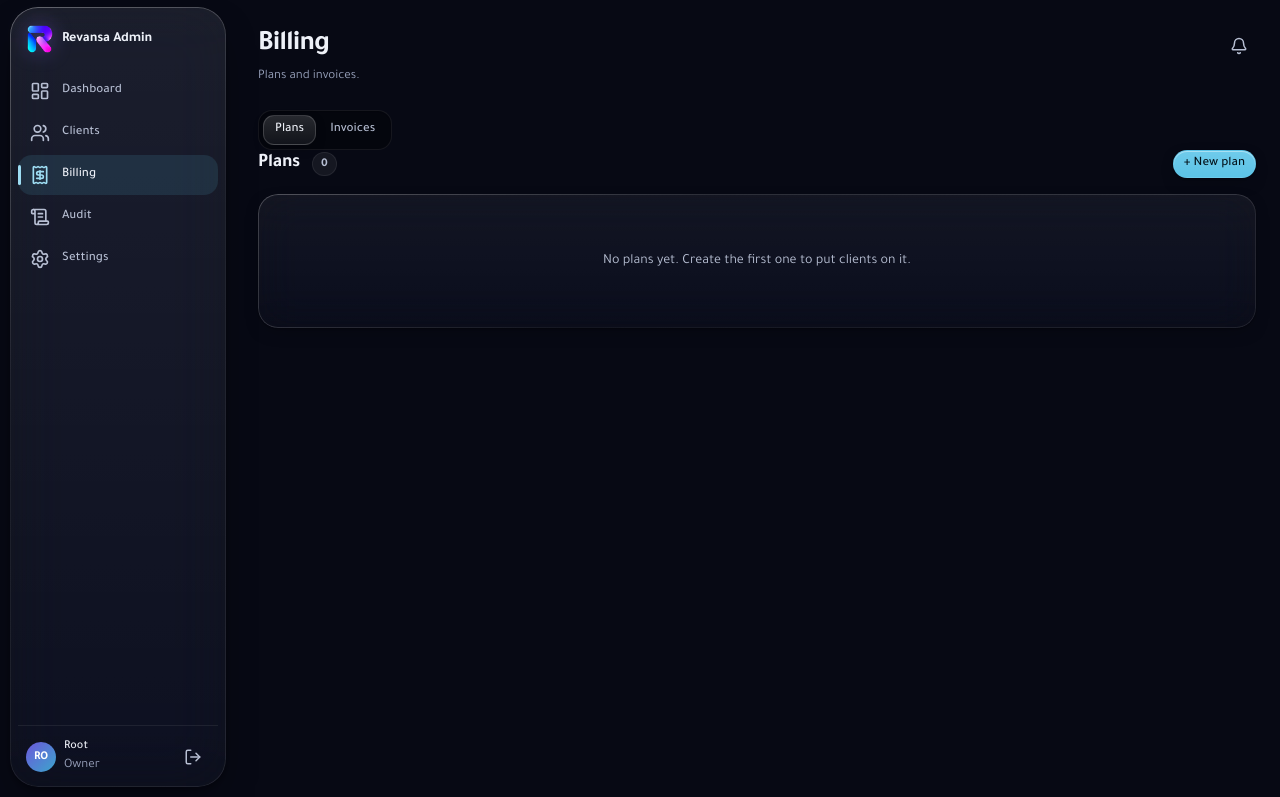
Test: Billing: invoices › lets an owner mark a pending invoice PAID, and then offers nothing more for it
Click the radio button labelled "Invoices".
click(353, 130)  # box [318,115,387,145]
(page scrolled)
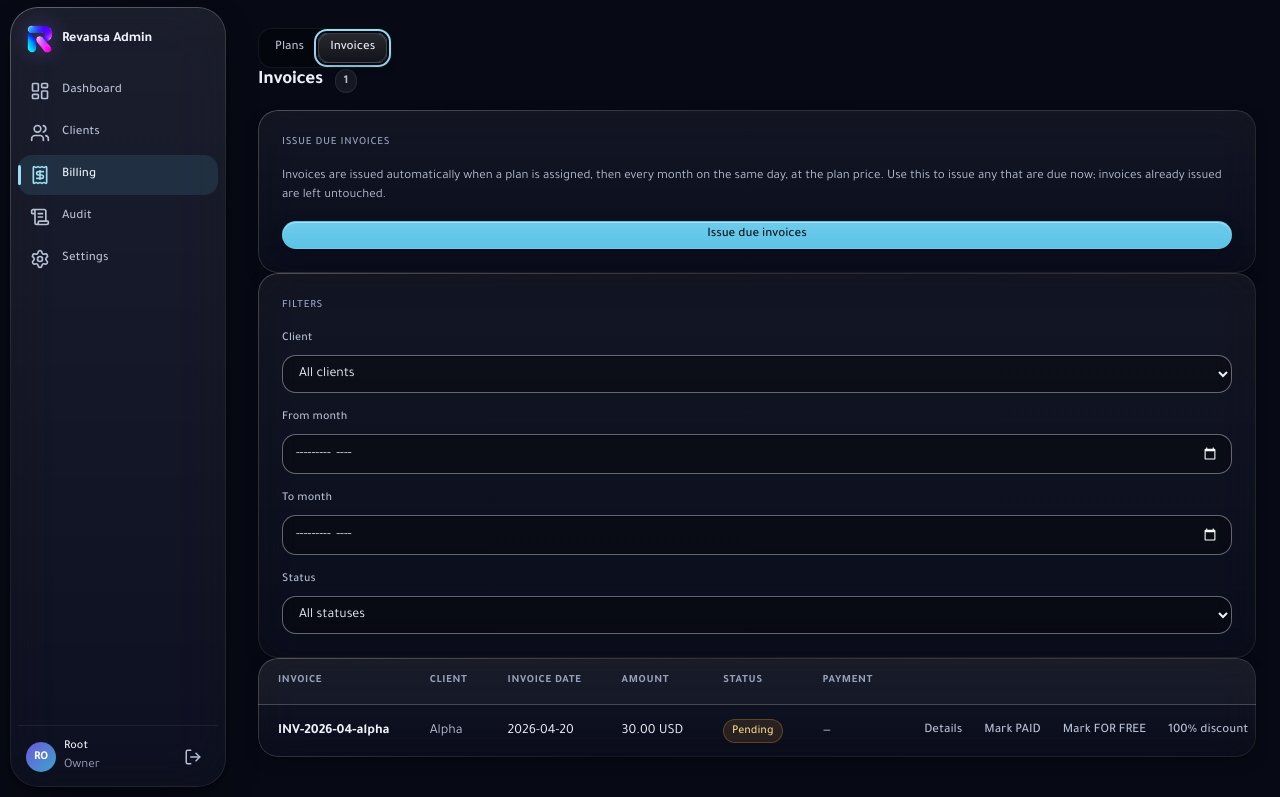
Click the button with aria-label "Mark INV-2026-04-alpha paid".
click(1012, 731)  # box [973,717,1052,745]
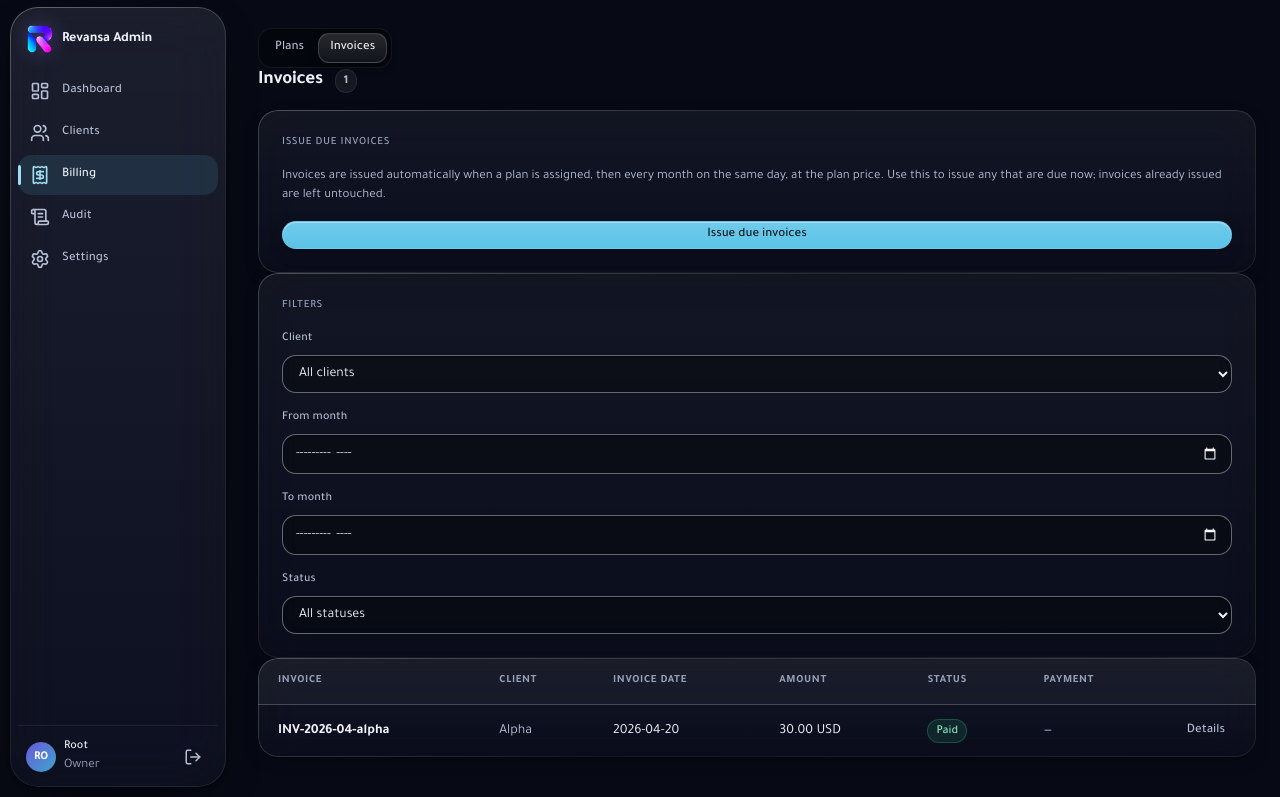
Check: the text "Paid" is shown, box [936,724,958,738]
Check: the button "Mark" is gone
